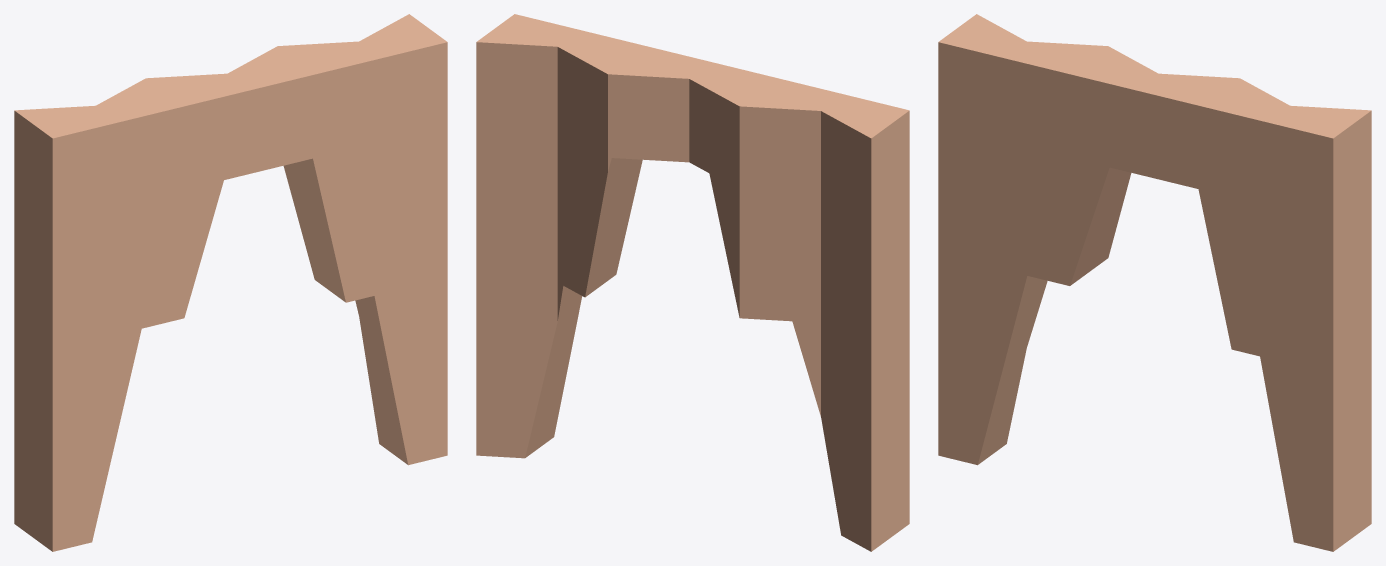
Rendered from cliff_cave_rock.glb.
3 renders of one model, left to right at view 1: azimuth 30°, elevation 25°; view 2: azimuth 150°, elevation 25°; view 3: azimuth 330°, elevation 25°, orthographic.
Visible parts, largest first — view 1: cliff_cave_rock; view 2: cliff_cave_rock; view 3: cliff_cave_rock.
Part boxes in pixels (left/top/right/bottom): cliff_cave_rock: left=14, top=14, right=447, bottom=551; cliff_cave_rock: left=476, top=14, right=909, bottom=551; cliff_cave_rock: left=938, top=14, right=1371, bottom=551.
Bounding box in the file's own units: 1 × 1 × 0.1685.
